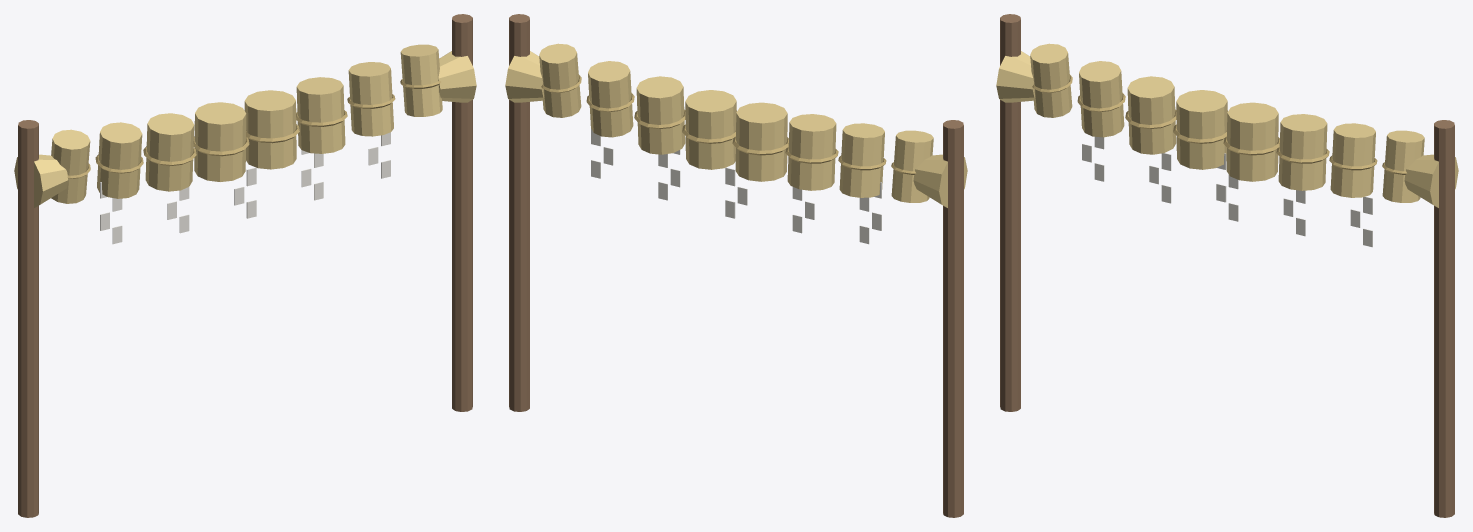
The model's file is shimenawa.glb.
The picture shows the model from 3 angles, left to right: view 1: azimuth 30°, elevation 25°; view 2: azimuth 150°, elevation 25°; view 3: azimuth 330°, elevation 25°; orthographic projection.
Visible parts, largest first — view 1: shimenawa; view 2: shimenawa; view 3: shimenawa.
Part boxes in pixels (left/top/right/bottom): shimenawa: left=14, top=14, right=476, bottom=517; shimenawa: left=505, top=14, right=967, bottom=517; shimenawa: left=996, top=14, right=1458, bottom=517.
Size of the model in its own units: 2.91 by 2.4 by 0.3306.
